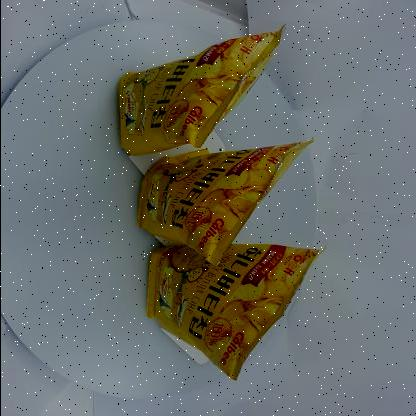Others: (110, 18, 330, 384)
